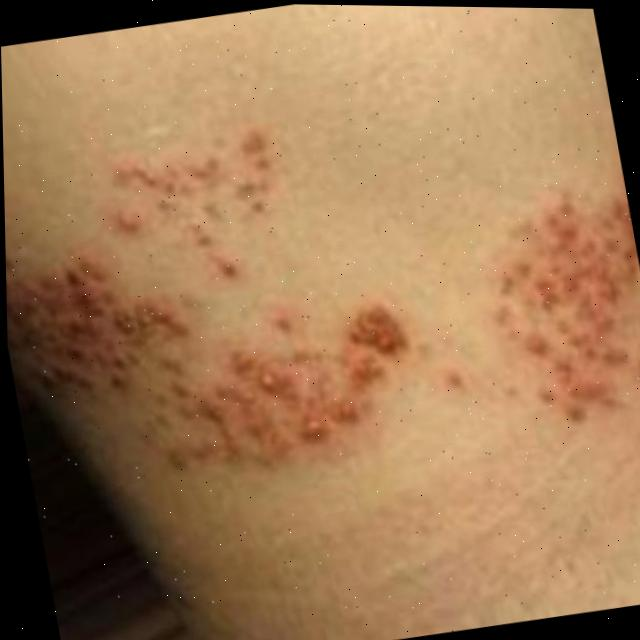Shingles: (2, 103, 424, 501), (451, 93, 640, 436)
